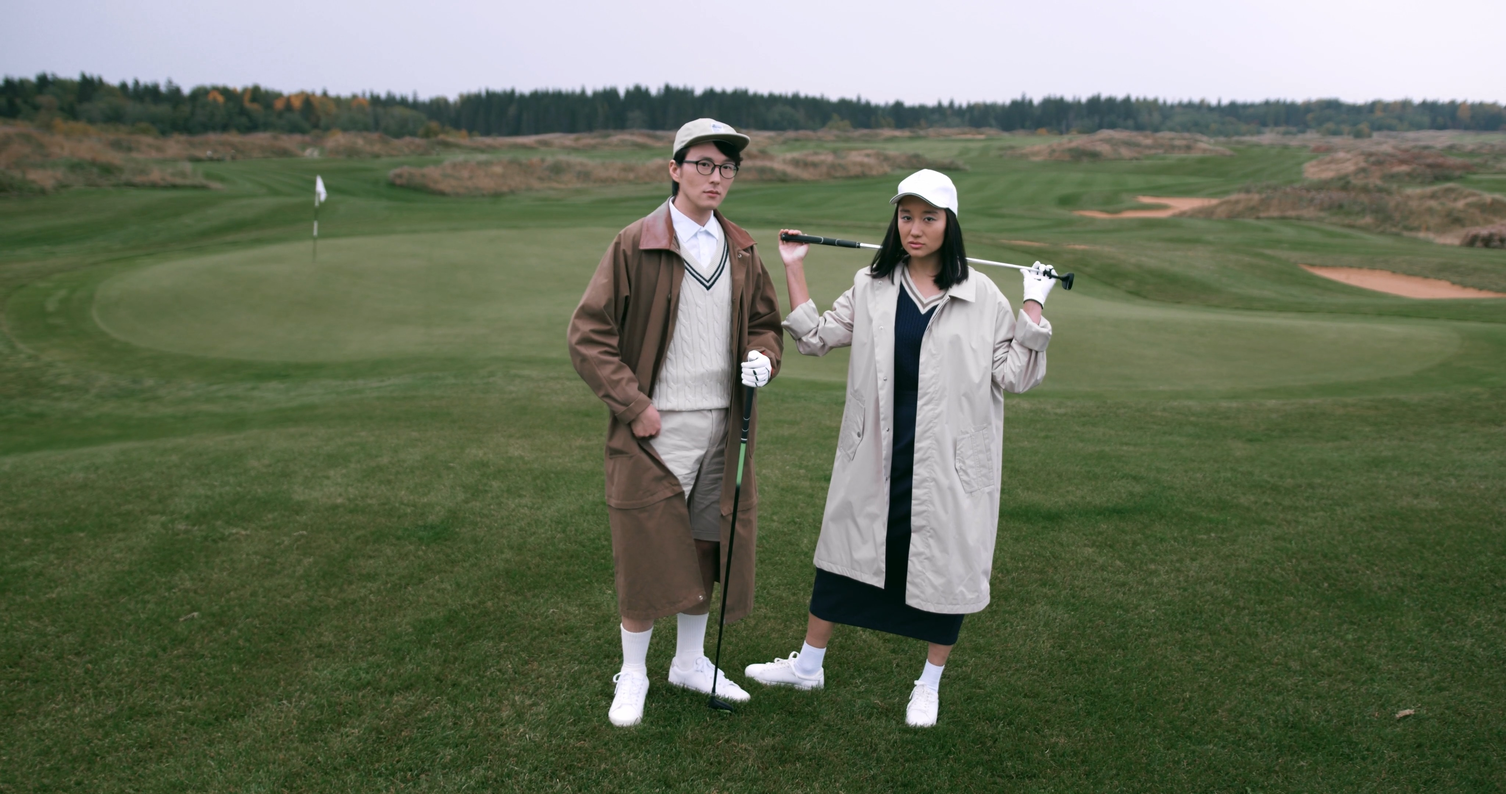No-gloves: (623, 382, 662, 464), (771, 220, 814, 278)
gloves: (1008, 266, 1074, 316), (722, 345, 785, 386)
